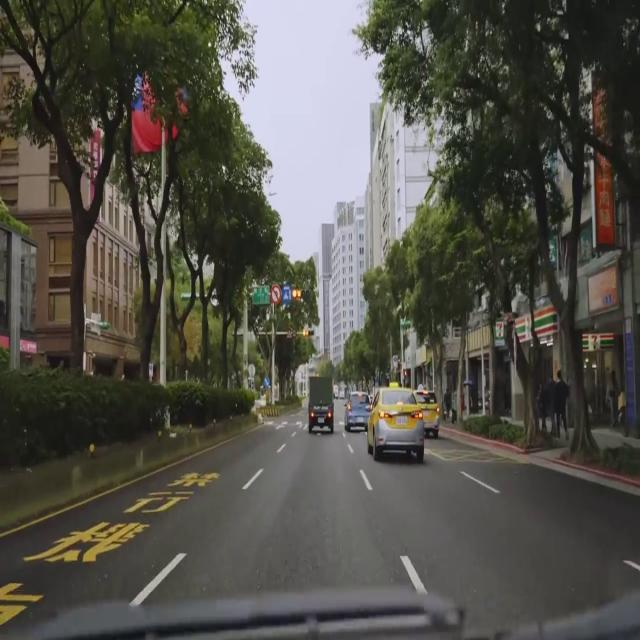red light: (291, 289, 311, 299), (302, 330, 314, 336)
